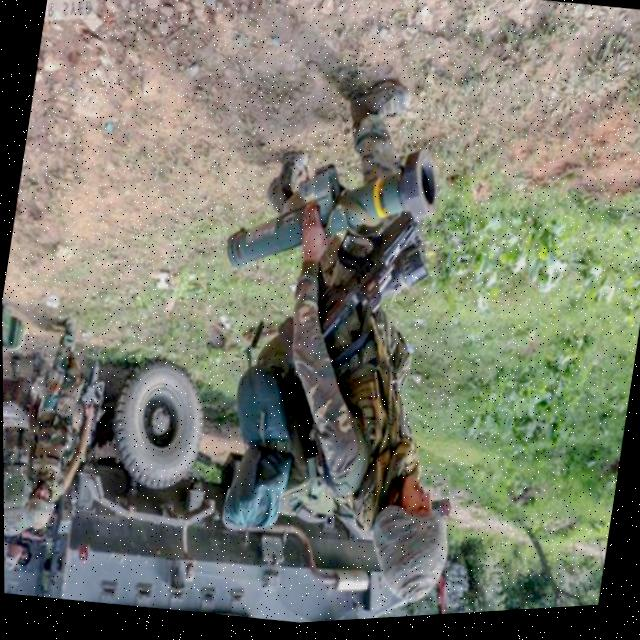rocket: (210, 125, 452, 315)
